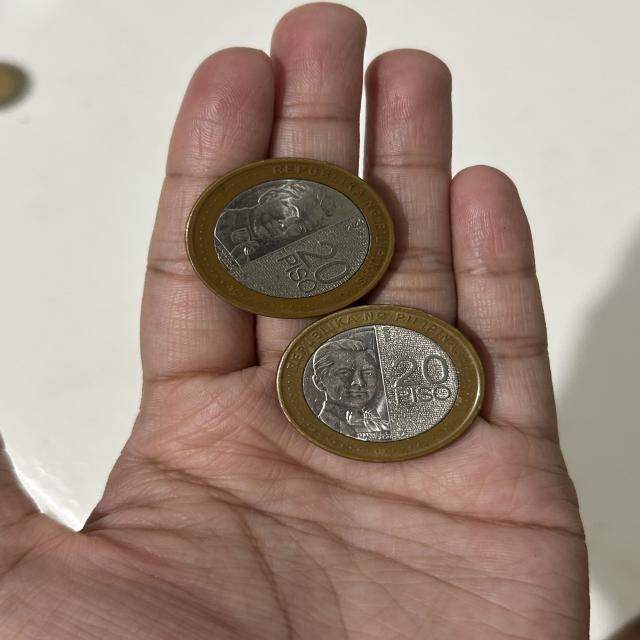20_New_Front: (262, 242, 354, 292), (388, 352, 450, 406)
